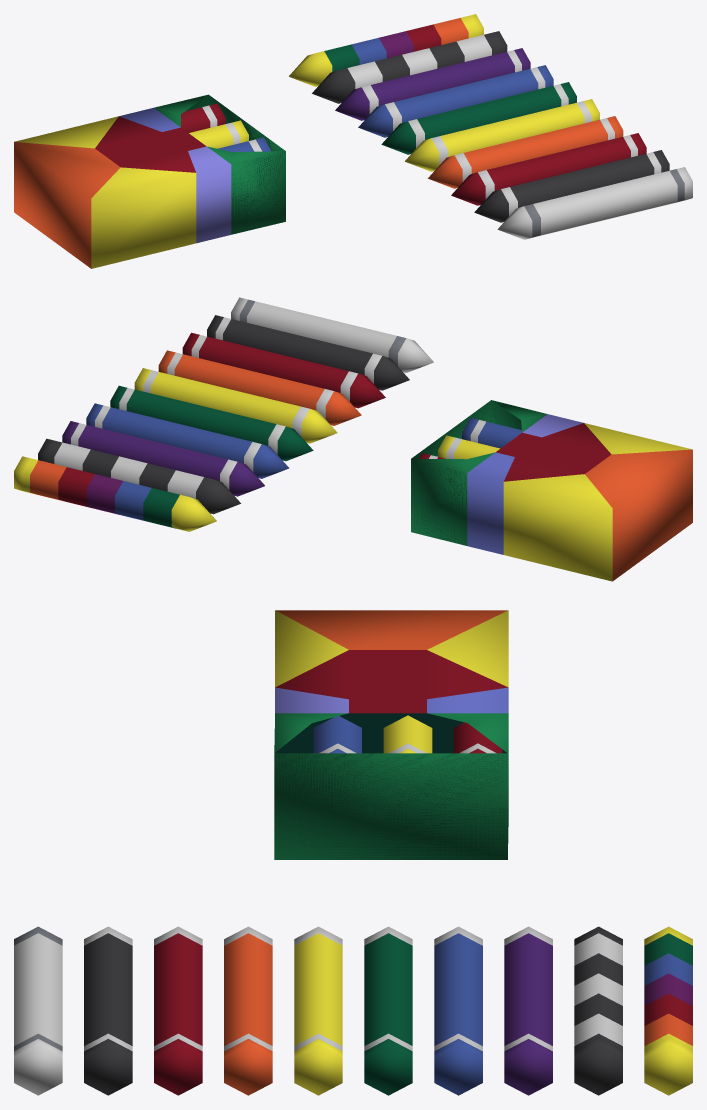
File: crayons.fbx
The picture shows the model from 3 angles, top to bottom: view 1: azimuth 30°, elevation 25°; view 2: azimuth 150°, elevation 25°; view 3: azimuth 270°, elevation 25°; orthographic projection. The views are drawn at different scales.
Parts seen in each view (by area): view 1: crayon_box, crayon_white, crayon_orange, crayon_red, crayon_mime, crayon_black, crayon_green, crayon_purple, crayon_blue, crayon_clown, crayon_yellow, crayon_yellow_box (+2 smaller); view 2: crayon_box, crayon_clown, crayon_orange, crayon_red, crayon_yellow, crayon_blue, crayon_green, crayon_purple, crayon_white, crayon_mime, crayon_black, crayon_blue_box (+1 smaller); view 3: crayon_box, crayon_green, crayon_yellow, crayon_white, crayon_red, crayon_purple, crayon_clown, crayon_blue, crayon_black, crayon_orange, crayon_mime, crayon_yellow_box (+2 smaller).
Boxes of the visible parts, <box> form: crayon_box: <box>14,94,285,268</box>; crayon_white: <box>497,167,692,239</box>; crayon_orange: <box>428,116,623,188</box>; crayon_red: <box>451,133,646,205</box>; crayon_mime: <box>312,31,507,103</box>; crayon_black: <box>474,150,669,222</box>; crayon_green: <box>381,82,576,154</box>; crayon_purple: <box>335,48,530,120</box>; crayon_blue: <box>358,65,553,137</box>; crayon_clown: <box>289,14,483,86</box>; crayon_yellow: <box>405,99,599,171</box>; crayon_yellow_box: <box>189,120,248,148</box>; crayon_box: <box>411,400,692,581</box>; crayon_clown: <box>14,456,216,531</box>; crayon_orange: <box>158,350,361,425</box>; crayon_red: <box>182,332,385,408</box>; crayon_yellow: <box>134,368,337,443</box>; crayon_blue: <box>86,403,289,478</box>; crayon_green: <box>110,385,313,461</box>; crayon_purple: <box>62,421,264,496</box>; crayon_white: <box>231,297,433,372</box>; crayon_mime: <box>38,438,240,514</box>; crayon_black: <box>207,315,409,390</box>; crayon_blue_box: <box>462,417,522,448</box>; crayon_box: <box>274,610,508,859</box>; crayon_green: <box>364,926,412,1095</box>; crayon_yellow: <box>294,926,342,1095</box>; crayon_white: <box>14,926,62,1095</box>; crayon_red: <box>154,926,202,1095</box>; crayon_purple: <box>504,926,552,1095</box>; crayon_clown: <box>644,926,692,1095</box>; crayon_blue: <box>434,926,482,1095</box>; crayon_black: <box>84,926,132,1095</box>; crayon_orange: <box>224,926,272,1095</box>; crayon_mime: <box>574,926,622,1095</box>; crayon_yellow_box: <box>383,715,432,753</box>.
Bounding box in the file's own units: 0.9609 × 0.1257 × 0.727.
